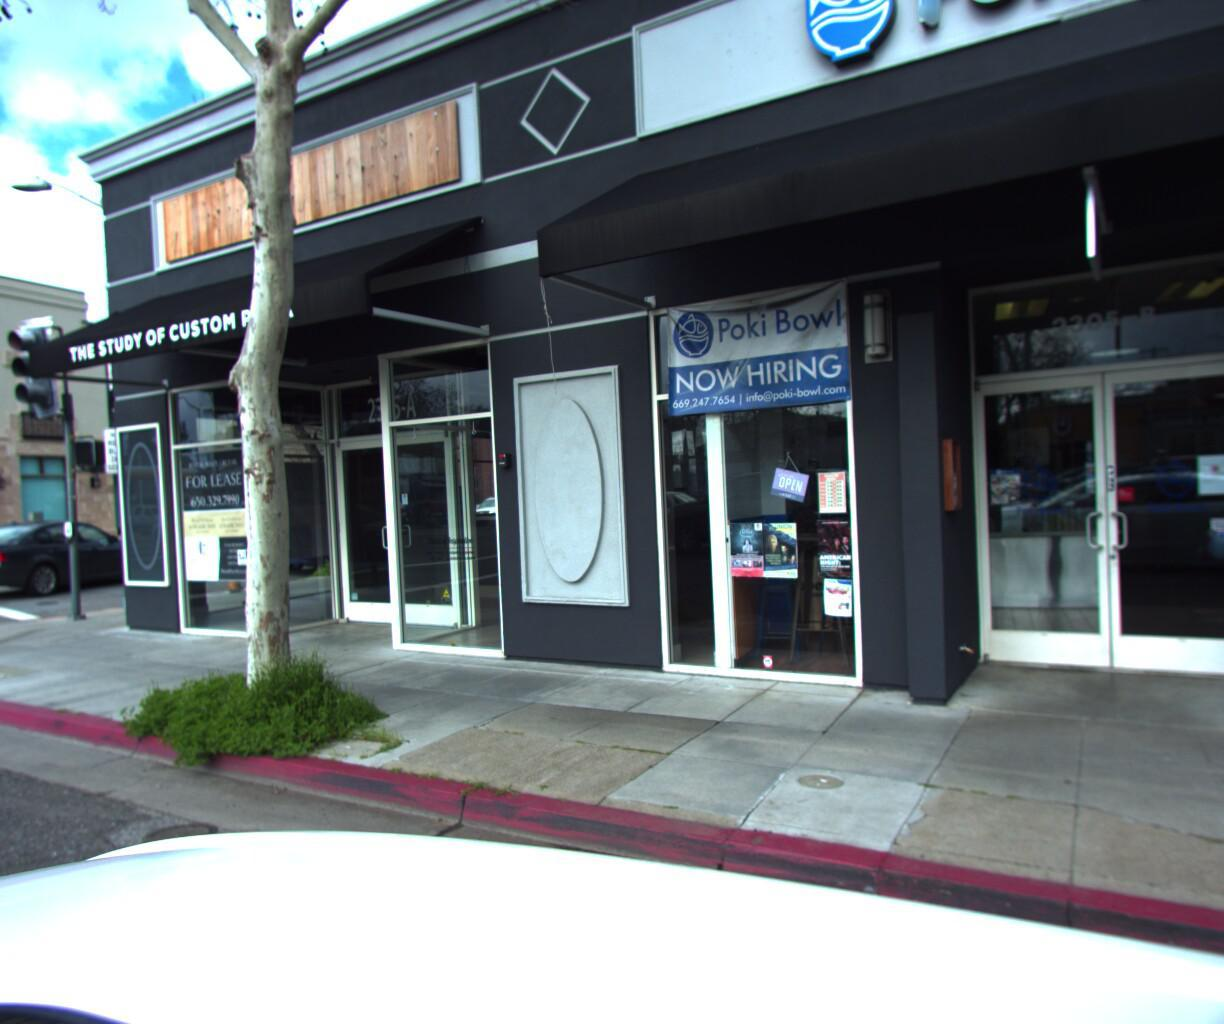car: (0, 516, 175, 610), (254, 510, 448, 584), (464, 498, 543, 537)
